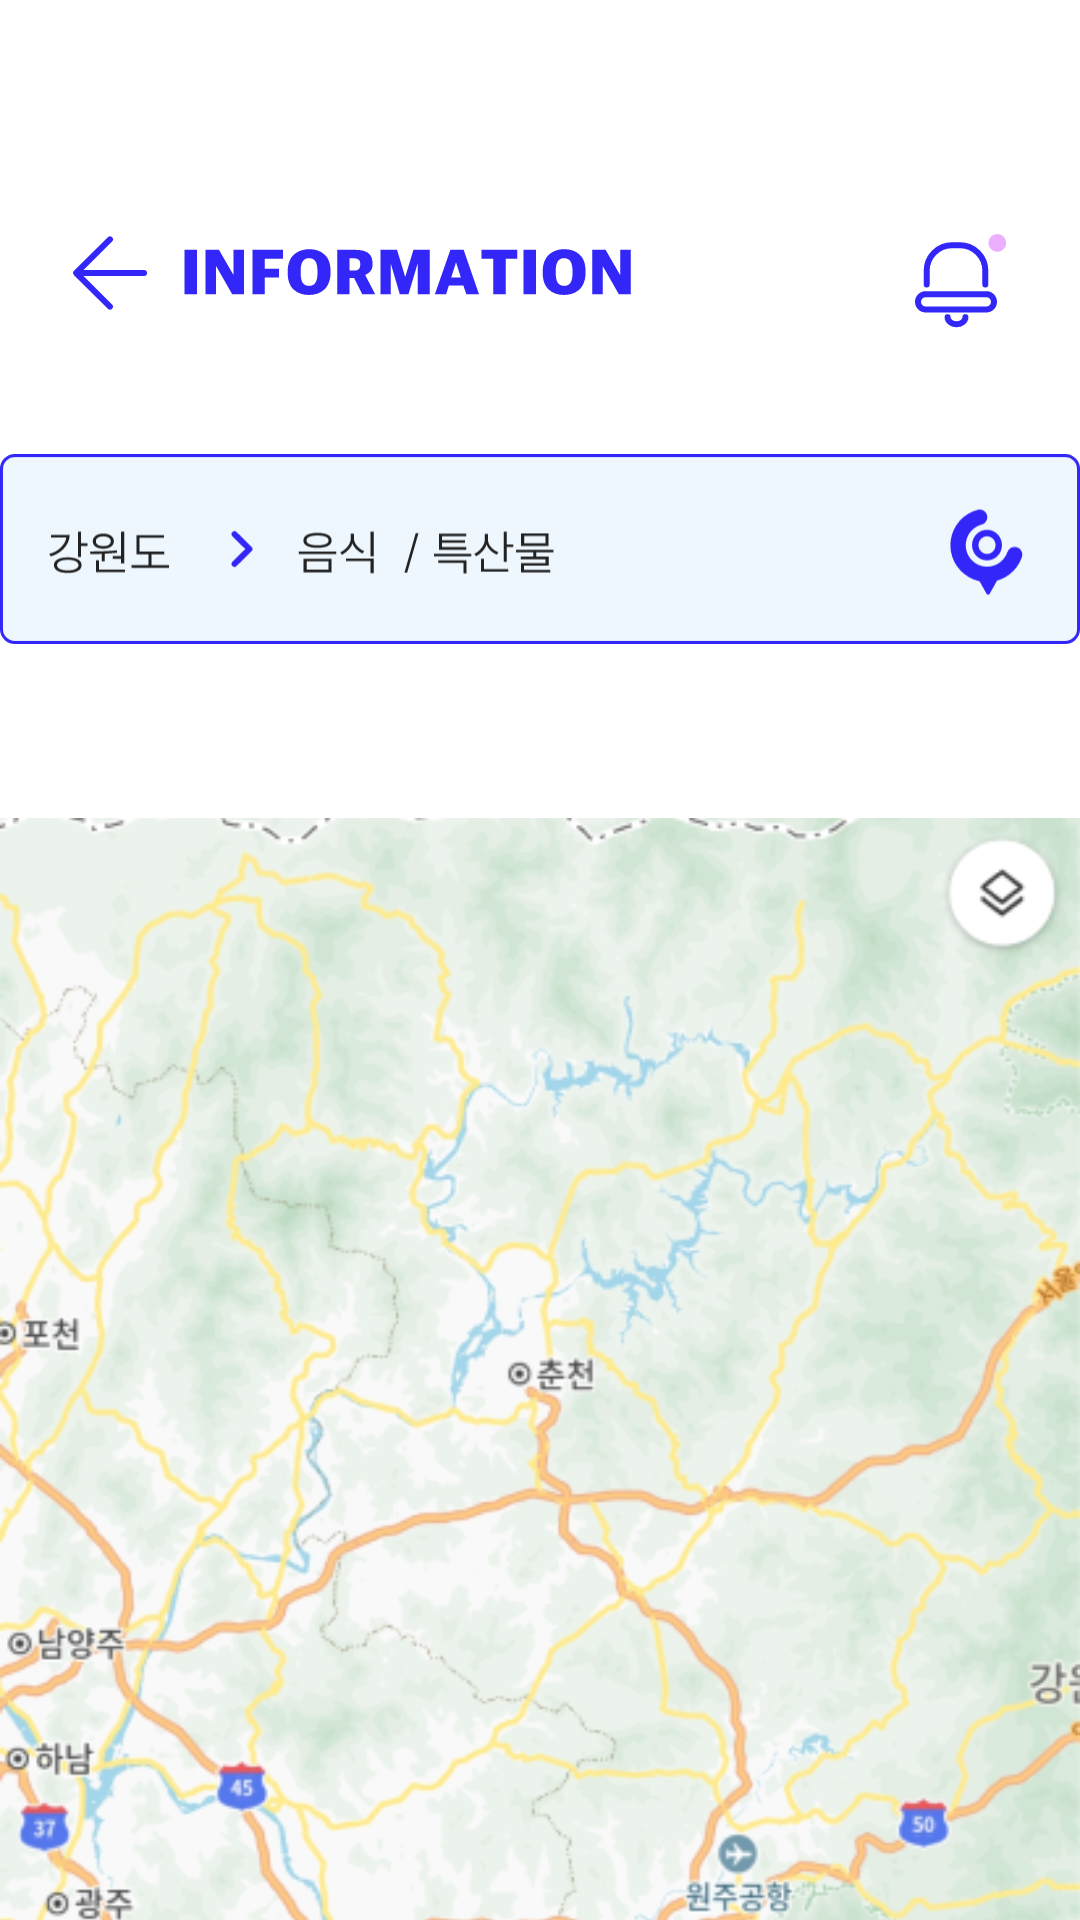

Icon click points for this 1080x1920 phone screenshot, format (x=x, y=y):
information backbtn iv: (x=110, y=273)
information notification iv: (x=960, y=281)
